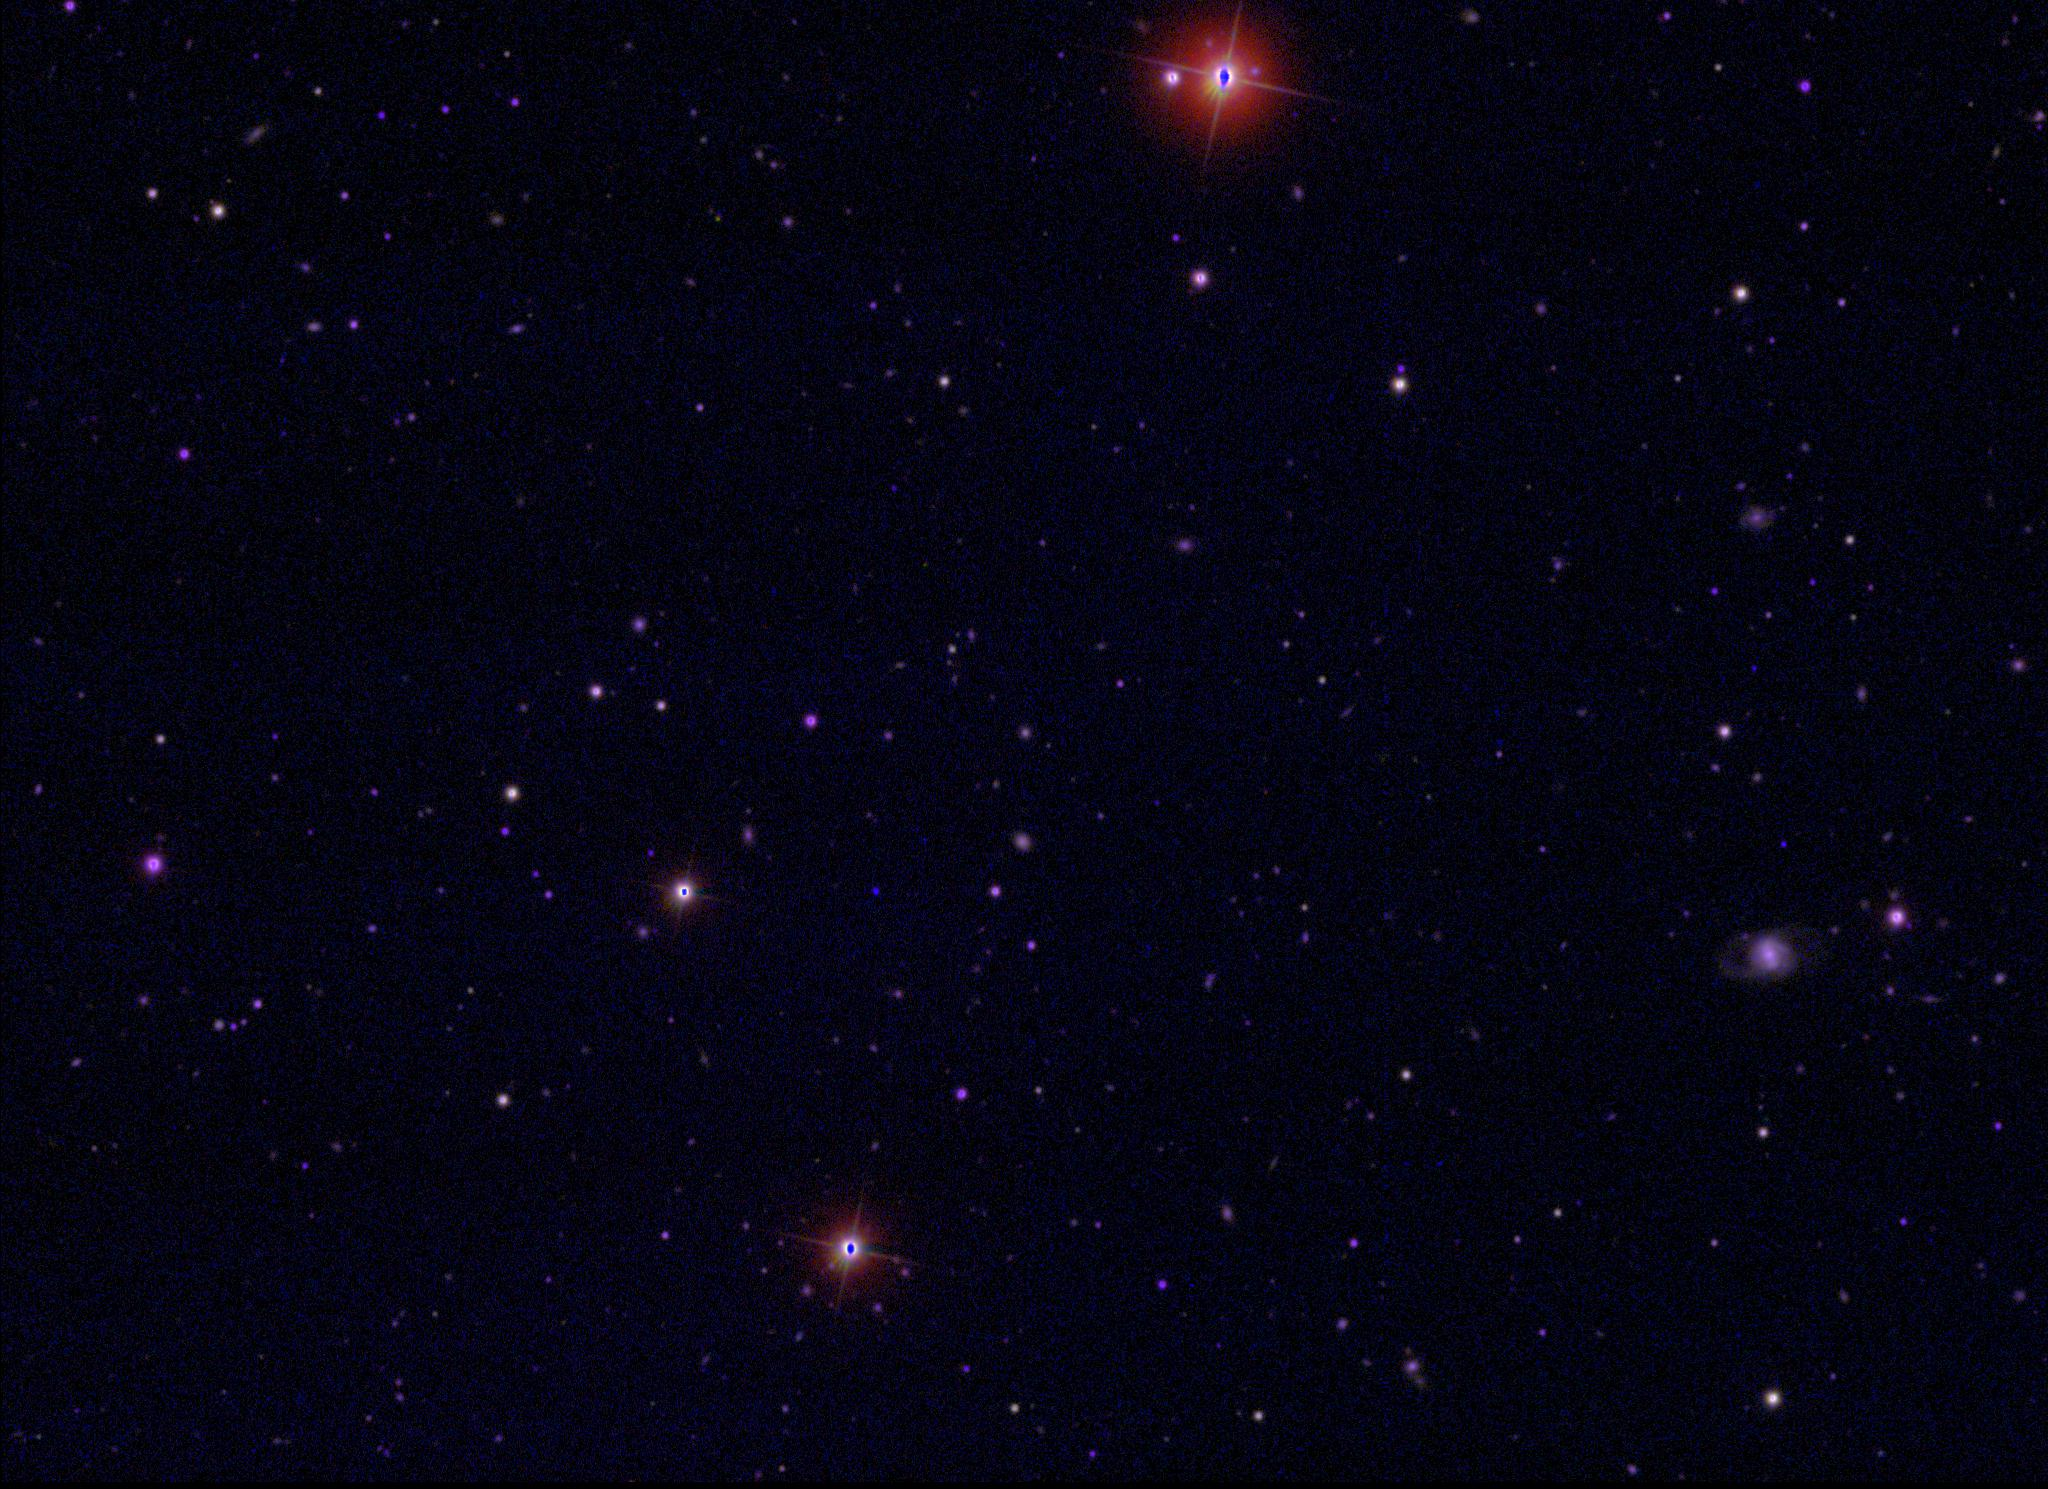L: (868, 884, 882, 899)
